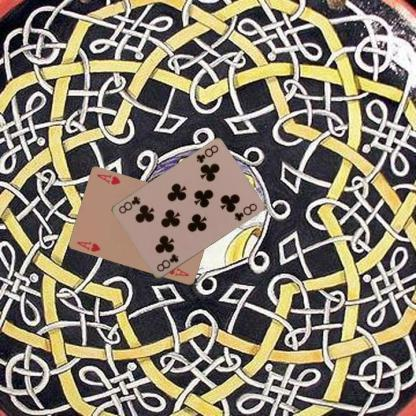8c: (154, 250, 180, 274), (194, 142, 220, 165)
Ah: (74, 239, 102, 253)
